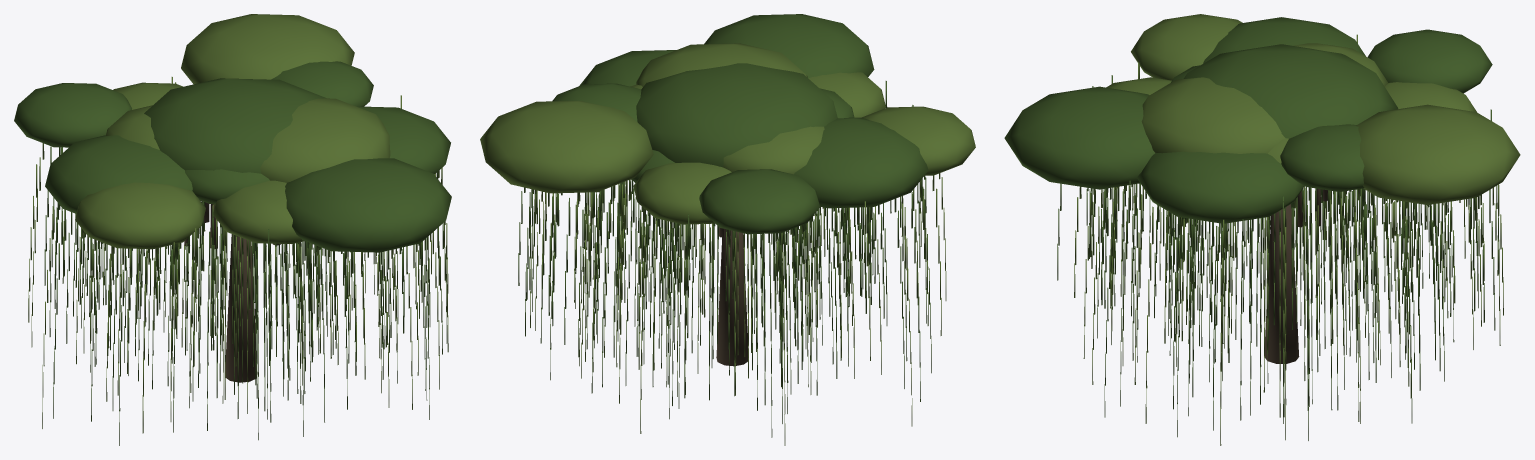
The model's file is trauerweide.glb.
3 renders of one model, left to right at view 1: azimuth 30°, elevation 25°; view 2: azimuth 150°, elevation 25°; view 3: azimuth 270°, elevation 25°, orthographic. The views are drawn at different scales.
Parts seen in each view (by area): view 1: trauerweide; view 2: trauerweide; view 3: trauerweide.
Part boxes in pixels (<box>): trauerweide: <box>14,14,451,445</box>; trauerweide: <box>480,14,975,445</box>; trauerweide: <box>1004,14,1520,445</box>.
Bounding box in the file's own units: 7.95 × 5.83 × 8.85.
